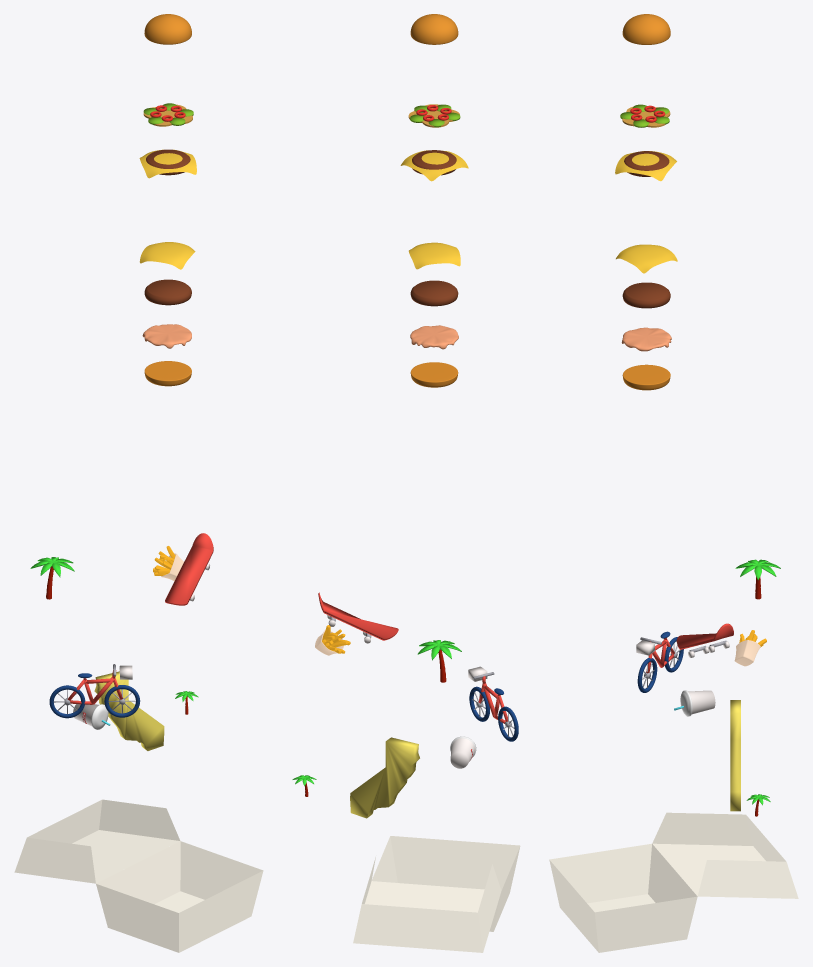
Rendered from scroll_model.glb.
3 views of the same model, side by side, from view 1: azimuth 30°, elevation 25°; view 2: azimuth 150°, elevation 25°; view 3: azimuth 270°, elevation 25° (orthographic).
Parts seen in each view (by area): view 1: Box_Bottom_Part, Box_Upper_Part, MB_California_State, MB_Skateboard_Deck, Burger_Bun_Top, Burger_Cheese, Burger_Patty, Burger_Bun_Bottom, Burger_Mayonnaise_Bottom, MB_Bike_Tyres, MB_Burger_Cheese_2, MB_Bike_Frame (+1 smaller); view 2: Box_Upper_Part, Box_Bottom_Part, MB_California_State, Burger_Bun_Top, Burger_Cheese, Burger_Patty, Burger_Bun_Bottom, MB_Skateboard_Deck, Burger_Mayonnaise_Bottom, MB_Burger_Cheese_2, MB_Bike_Tyres, MB_Soda_Cup (+1 smaller); view 3: Box_Bottom_Part, Box_Upper_Part, MB_California_State, Burger_Bun_Top, Burger_Cheese, Burger_Patty, Burger_Bun_Bottom, Burger_Mayonnaise_Bottom, MB_Burger_Cheese_2, MB_Skateboard_Deck, MB_Bike_Tyres, MB_Burger_Patty_2.
Part boxes in pixels (<box>): Box_Bottom_Part: <box>96,841,263,952</box>; Box_Upper_Part: <box>14,799,180,883</box>; MB_California_State: <box>94,671,164,750</box>; MB_Skateboard_Deck: <box>165,533,213,605</box>; Burger_Bun_Top: <box>144,14,191,44</box>; Burger_Cheese: <box>139,242,195,269</box>; Burger_Patty: <box>144,279,191,305</box>; Burger_Bun_Bottom: <box>144,361,191,386</box>; Burger_Mayonnaise_Bottom: <box>142,324,191,348</box>; MB_Bike_Tyres: <box>49,685,140,718</box>; MB_Burger_Cheese_2: <box>139,149,196,178</box>; MB_Bike_Frame: <box>67,670,122,704</box>; Box_Upper_Part: <box>353,857,501,952</box>; Box_Bottom_Part: <box>371,836,520,931</box>; MB_California_State: <box>350,737,419,818</box>; Burger_Bun_Top: <box>410,14,458,44</box>; Burger_Cheese: <box>408,242,460,269</box>; Burger_Patty: <box>410,280,458,306</box>; Burger_Bun_Bottom: <box>410,362,458,387</box>; MB_Skateboard_Deck: <box>318,592,398,640</box>; Burger_Mayonnaise_Bottom: <box>410,325,458,349</box>; MB_Burger_Cheese_2: <box>400,150,468,181</box>; MB_Bike_Tyres: <box>469,686,518,741</box>; MB_Soda_Cup: <box>450,738,474,768</box>; Box_Bottom_Part: <box>549,843,697,952</box>; Box_Upper_Part: <box>652,812,798,898</box>; MB_California_State: <box>730,700,740,811</box>; Burger_Bun_Top: <box>622,14,670,44</box>; Burger_Cheese: <box>616,244,677,273</box>; Burger_Patty: <box>622,282,670,308</box>; Burger_Bun_Bottom: <box>622,364,670,390</box>; Burger_Mayonnaise_Bottom: <box>621,327,671,351</box>; MB_Burger_Cheese_2: <box>615,151,676,181</box>; MB_Skateboard_Deck: <box>676,623,733,649</box>; MB_Bike_Tyres: <box>637,637,683,692</box>; MB_Burger_Patty_2: <box>624,151,669,176</box>.
Bounding box in the file's own units: 47.92 × 222 × 55.3.
